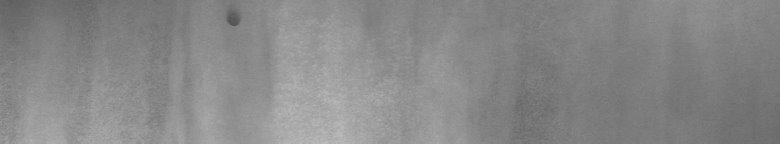fi: (225, 11, 244, 32)
